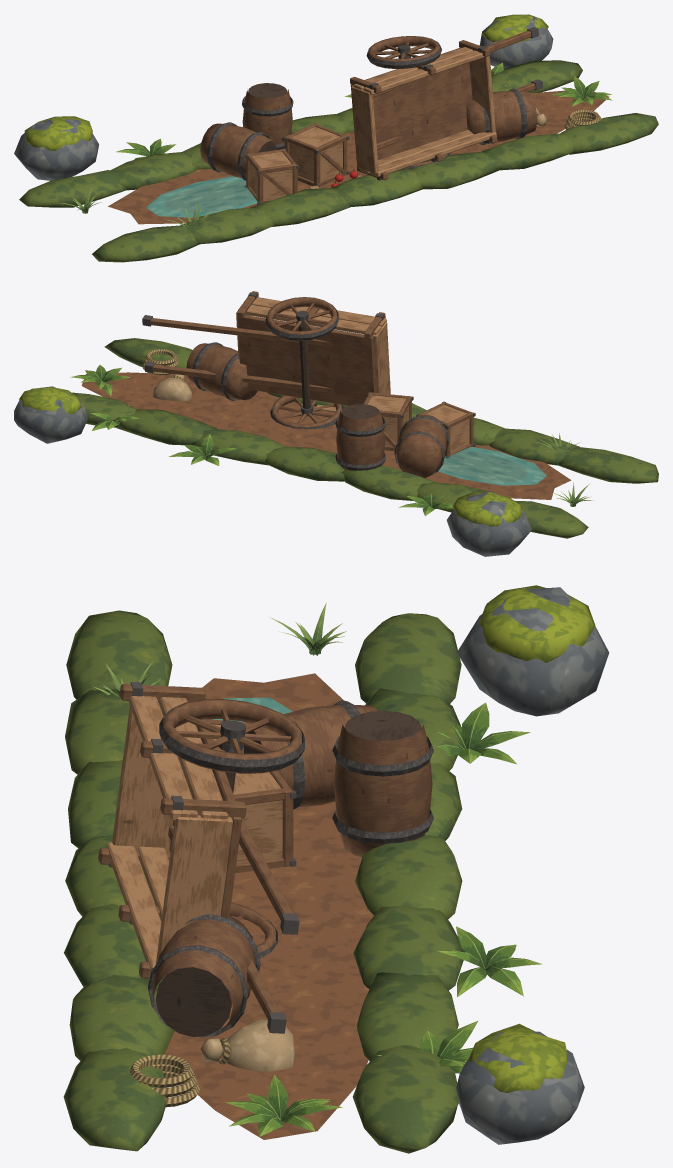
File: ev16_ditch.glb
3 views of the same model, one above another, from view 1: azimuth 30°, elevation 25°; view 2: azimuth 150°, elevation 25°; view 3: azimuth 270°, elevation 25° (orthographic). The views are drawn at different scales.
Parts seen in each view (by area): view 1: ev16_ditch_ground_details, ev16_ditch_cart, ev16_ditch_cargo, ev16_ditch_plants; view 2: ev16_ditch_ground_details, ev16_ditch_cart, ev16_ditch_cargo, ev16_ditch_plants; view 3: ev16_ditch_ground_details, ev16_ditch_cargo, ev16_ditch_cart, ev16_ditch_plants.
Boxes of the visible parts, x1=… form: ev16_ditch_ground_details: x1=14, y1=14, x2=658, y2=262; ev16_ditch_cart: x1=350, y1=27, x2=543, y2=180; ev16_ditch_cargo: x1=200, y1=83, x2=600, y2=204; ev16_ditch_plants: x1=57, y1=62, x2=612, y2=228; ev16_ditch_ground_details: x1=14, y1=338, x2=658, y2=556; ev16_ditch_cart: x1=142, y1=291, x2=390, y2=429; ev16_ditch_cargo: x1=142, y1=342, x2=475, y2=477; ev16_ditch_plants: x1=70, y1=365, x2=594, y2=515; ev16_ditch_ground_details: x1=63, y1=585, x2=609, y2=1153; ev16_ditch_cargo: x1=129, y1=700, x2=433, y2=1107; ev16_ditch_cart: x1=98, y1=681, x2=304, y2=1033; ev16_ditch_plants: x1=93, y1=602, x2=542, y2=1136.
Size of what is drawn, in the model's own units: 7.48 by 1.63 by 3.2.
Materials: 16 (16 with a texture image).
